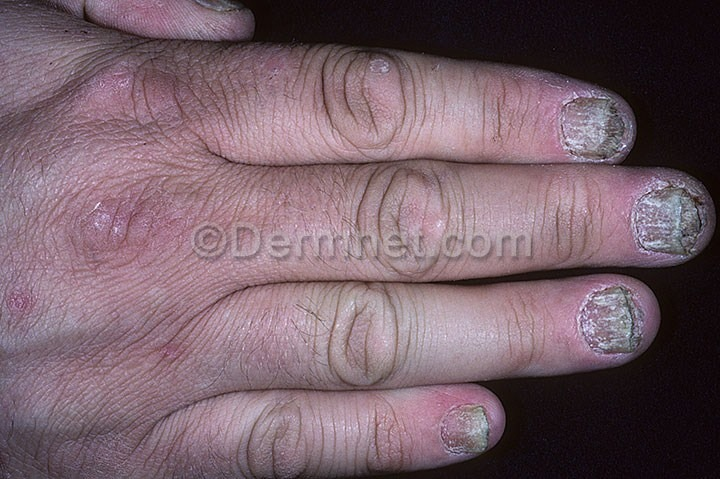Psoriasis: (552, 83, 639, 169), (637, 174, 707, 262), (584, 282, 655, 356), (433, 399, 498, 455), (363, 46, 397, 77)
